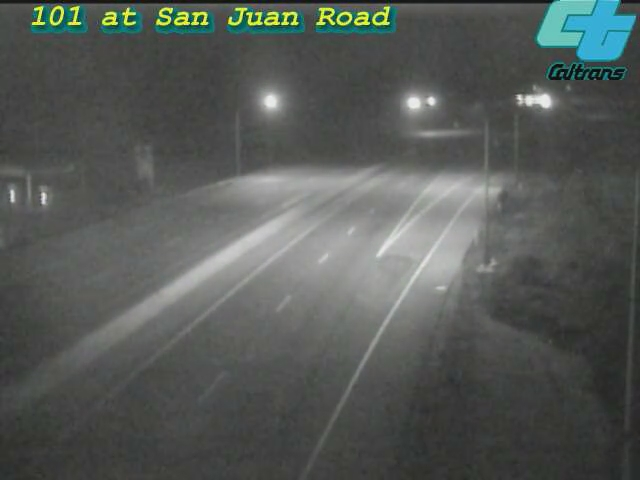vehicle: (519, 77, 569, 127)
